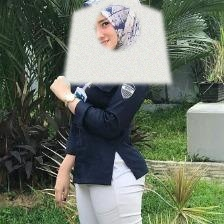Mukena: (63, 0, 171, 83)
